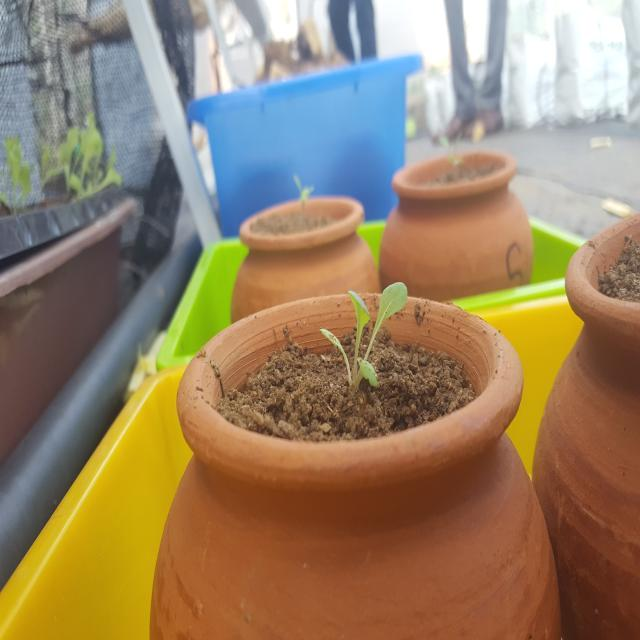Lettuce-Not-Ready-to-Harvest: (314, 279, 411, 398)
